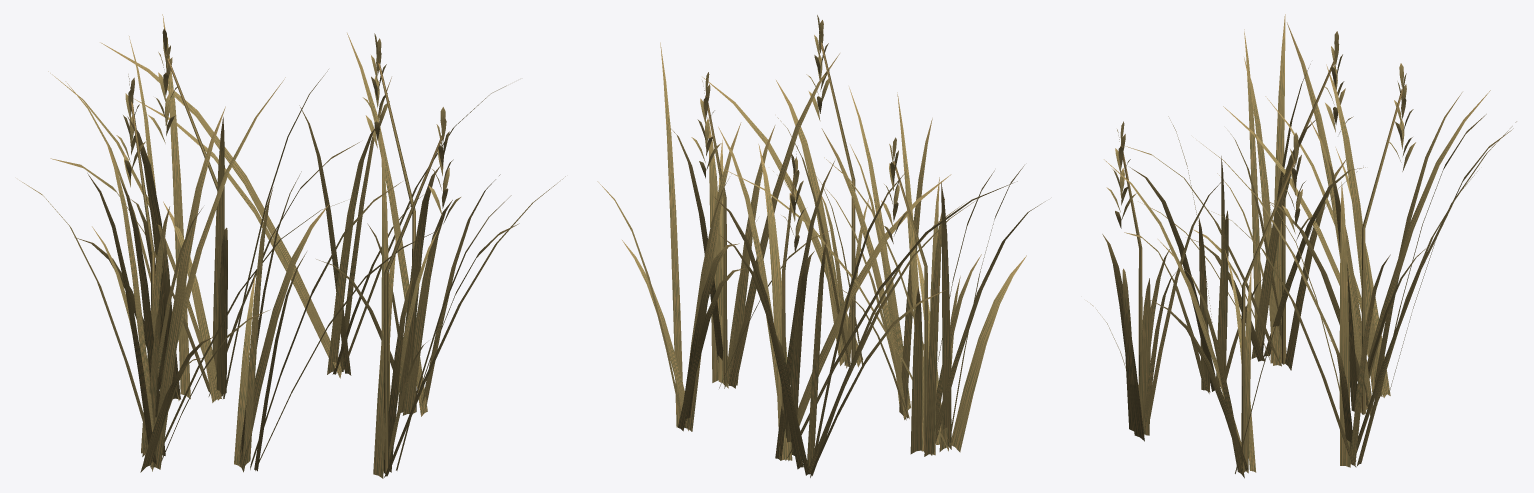
Rendered from DryBrome_B.fbx.
3 views of the same model, side by side, from view 1: azimuth 30°, elevation 25°; view 2: azimuth 150°, elevation 25°; view 3: azimuth 270°, elevation 25° (orthographic). The views are drawn at different scales.
Parts seen in each view (by area): view 1: DryBrome_B_LOD0; view 2: DryBrome_B_LOD0; view 3: DryBrome_B_LOD0.
Part boxes in pixels (box(x1,y1,x2,y2)): DryBrome_B_LOD0: box(19, 14, 565, 478); DryBrome_B_LOD0: box(597, 15, 1045, 477); DryBrome_B_LOD0: box(1087, 14, 1516, 478).
Size of what is drawn, in the model's own units: 42.64 by 31.77 by 37.27.
Materials: 1 (1 with a texture image).
